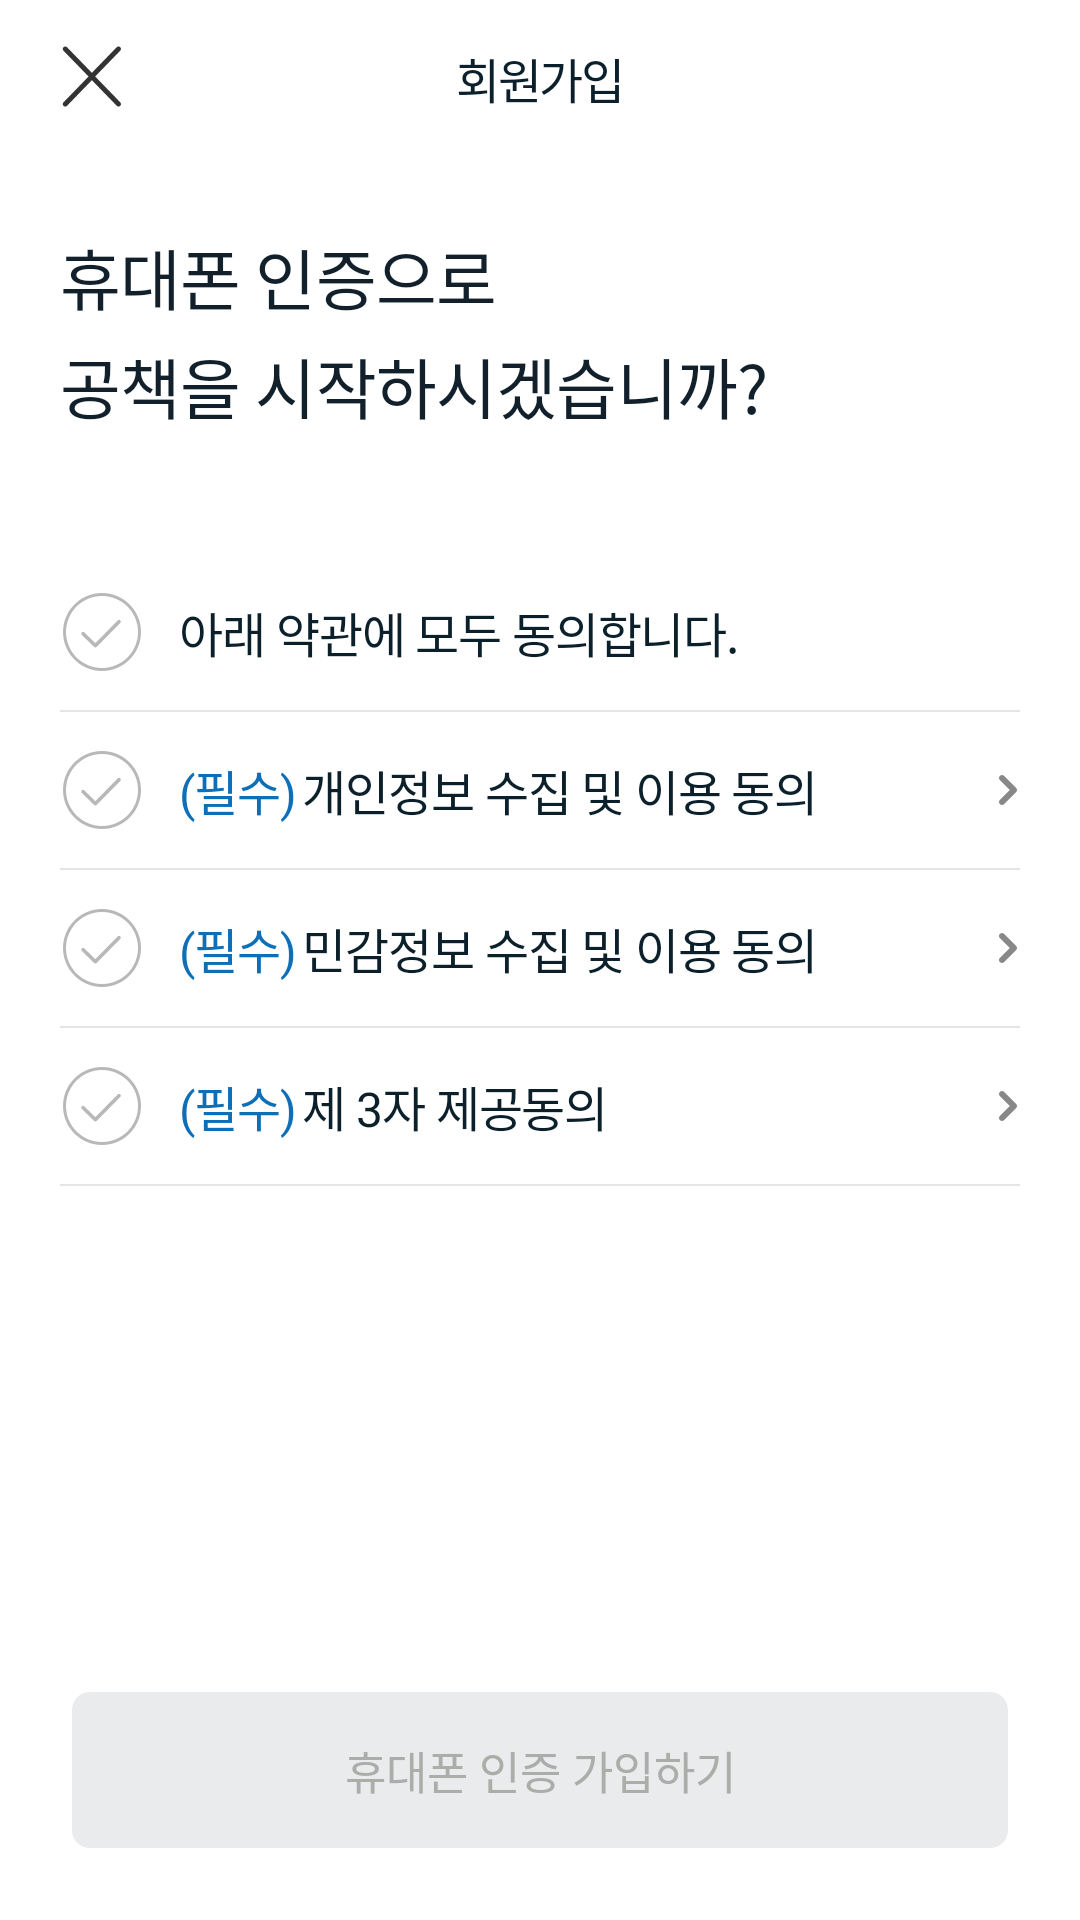

Icon bounding boxes for this 1080 × 1920 phone screenshot, format bbox=(x1, y1, x2, y2):
chevron right: bbox=(999, 775, 1017, 805), bbox=(999, 933, 1017, 963), bbox=(999, 1091, 1017, 1121)
exit: bbox=(62, 46, 121, 107)
